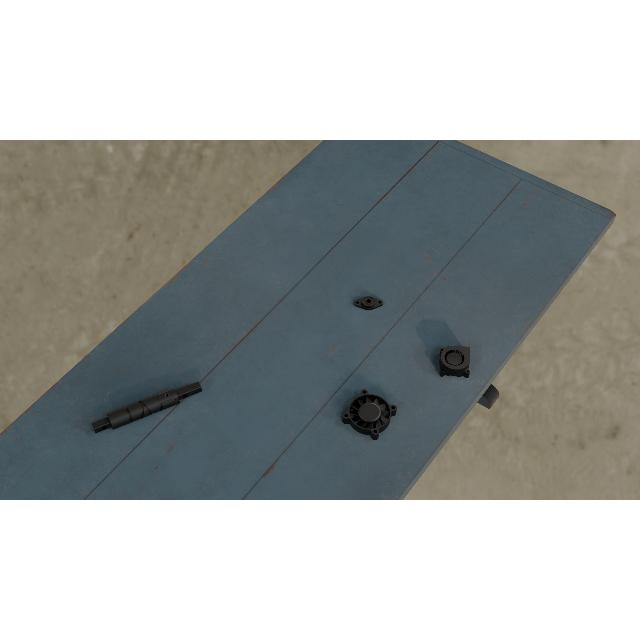Pieza1: (90, 376, 204, 440)
Pieza2: (354, 294, 384, 310)
Pieza3: (438, 345, 472, 379)
Pieza4: (340, 388, 400, 442)
